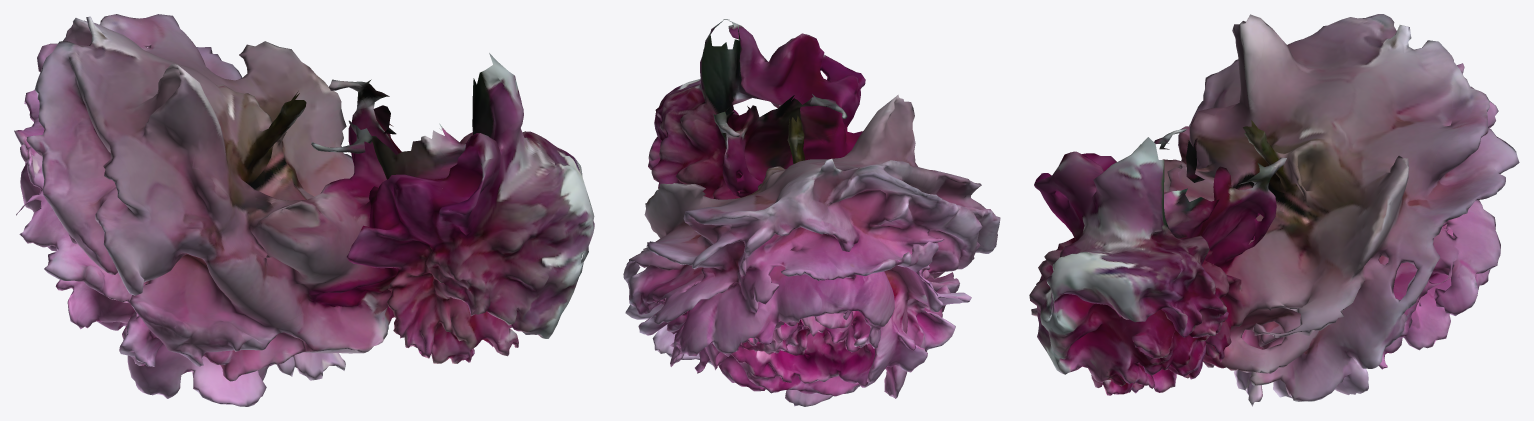
File: asset.glb
3 renders of one model, left to right at view 1: azimuth 30°, elevation 25°; view 2: azimuth 150°, elevation 25°; view 3: azimuth 270°, elevation 25°, orthographic. The views are drawn at different scales.
Visible parts, largest first — view 1: geo1; view 2: geo1; view 3: geo1.
Part boxes in pixels (<box>): geo1: <box>14,14,594,406</box>; geo1: <box>623,19,1000,406</box>; geo1: <box>1029,14,1519,406</box>.
Size of the model in its own units: 0.2105 by 0.1624 by 0.2148.
Materials: 1 (1 with a texture image).
